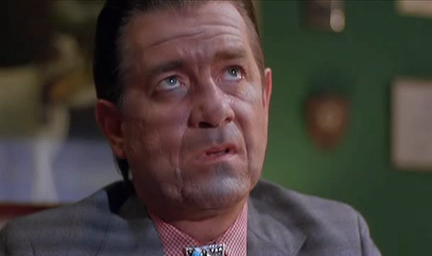cu: (1, 1, 432, 256)
face: (125, 12, 264, 209)
person: (1, 1, 382, 256)
